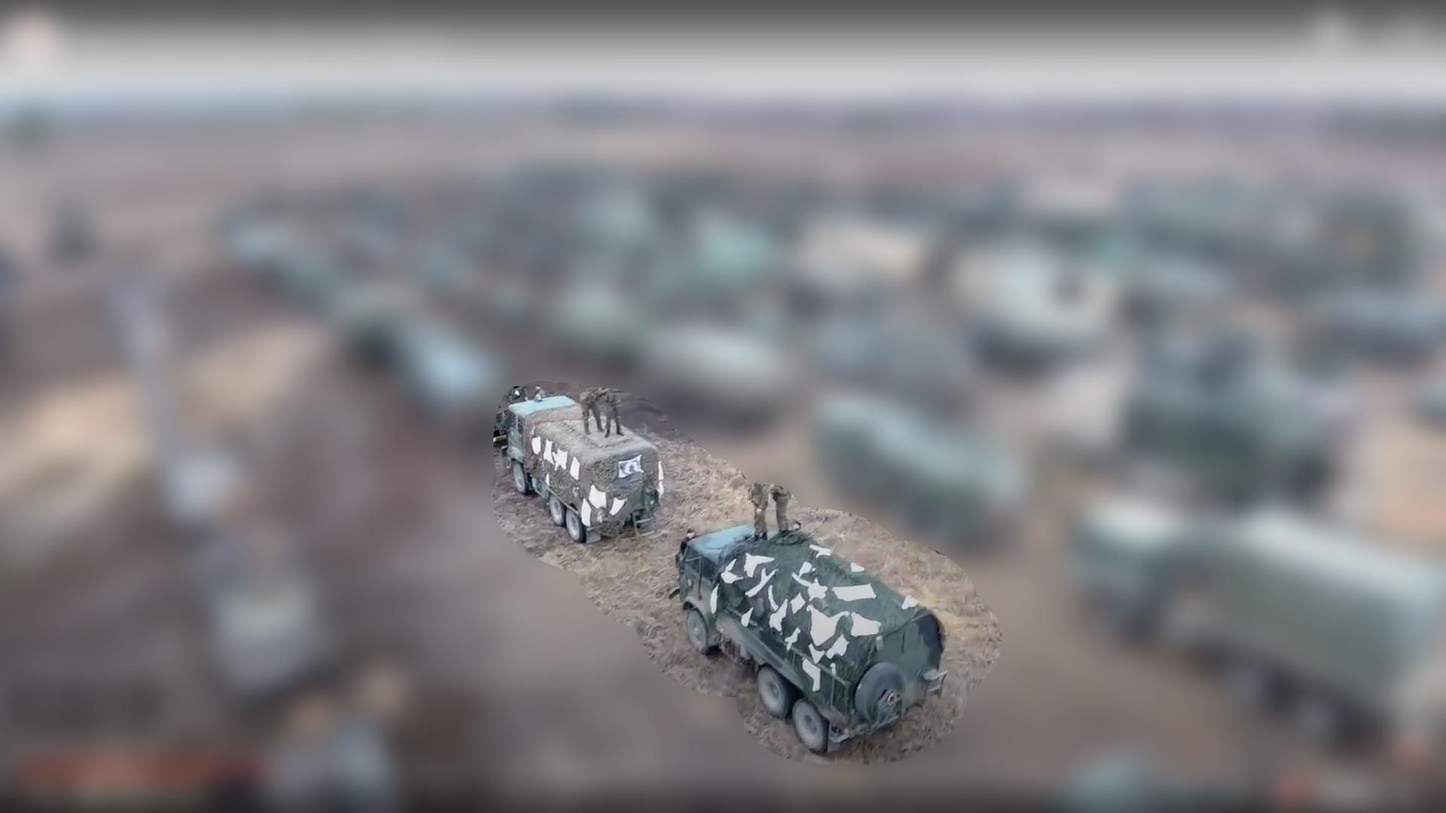truck: (676, 518, 948, 758), (499, 394, 666, 543)
